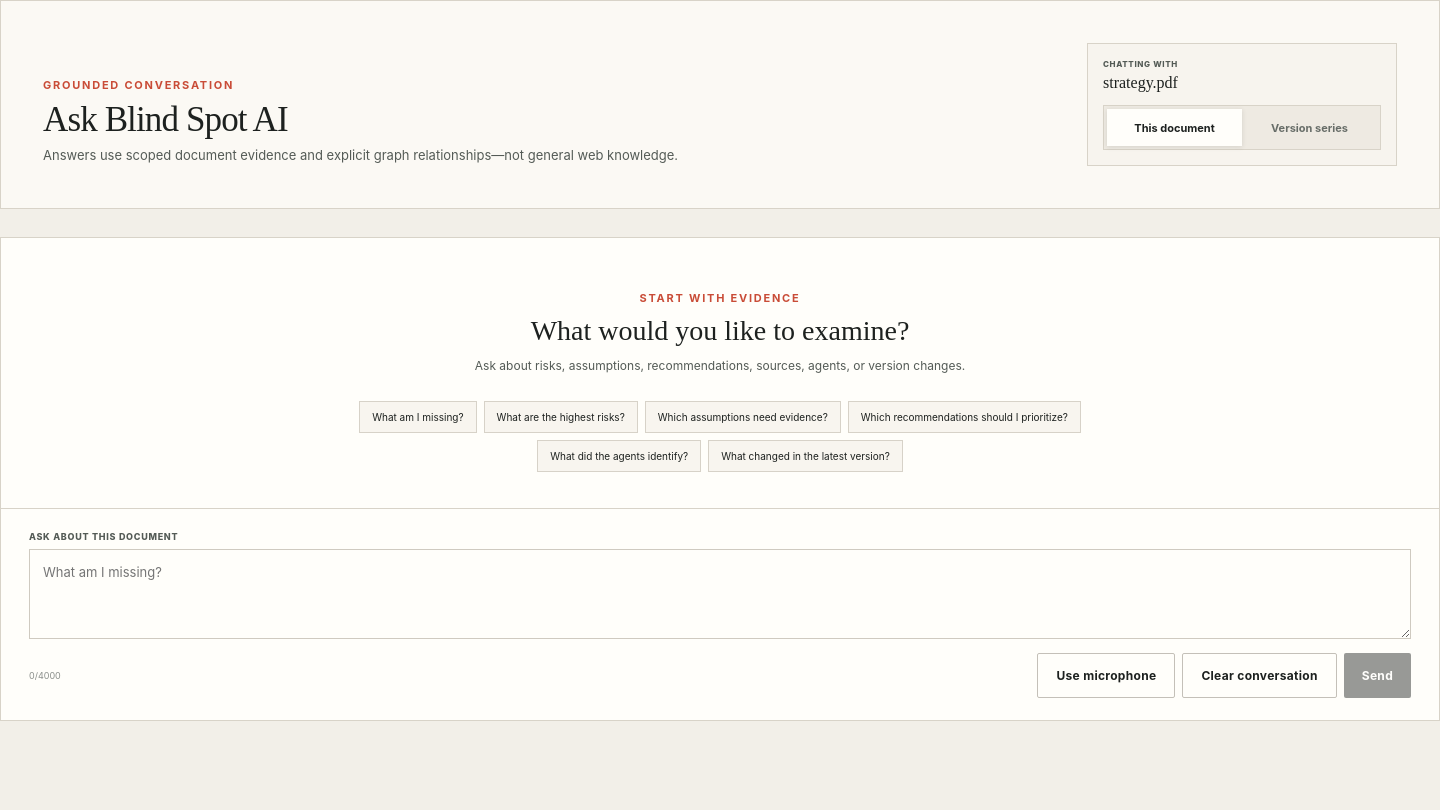
Test: grounded chat › keeps text available when voice is unsupported or permission is denied
Click the button "Use microphone": click(1106, 676) x1=1038 y1=653 x2=1175 y2=698
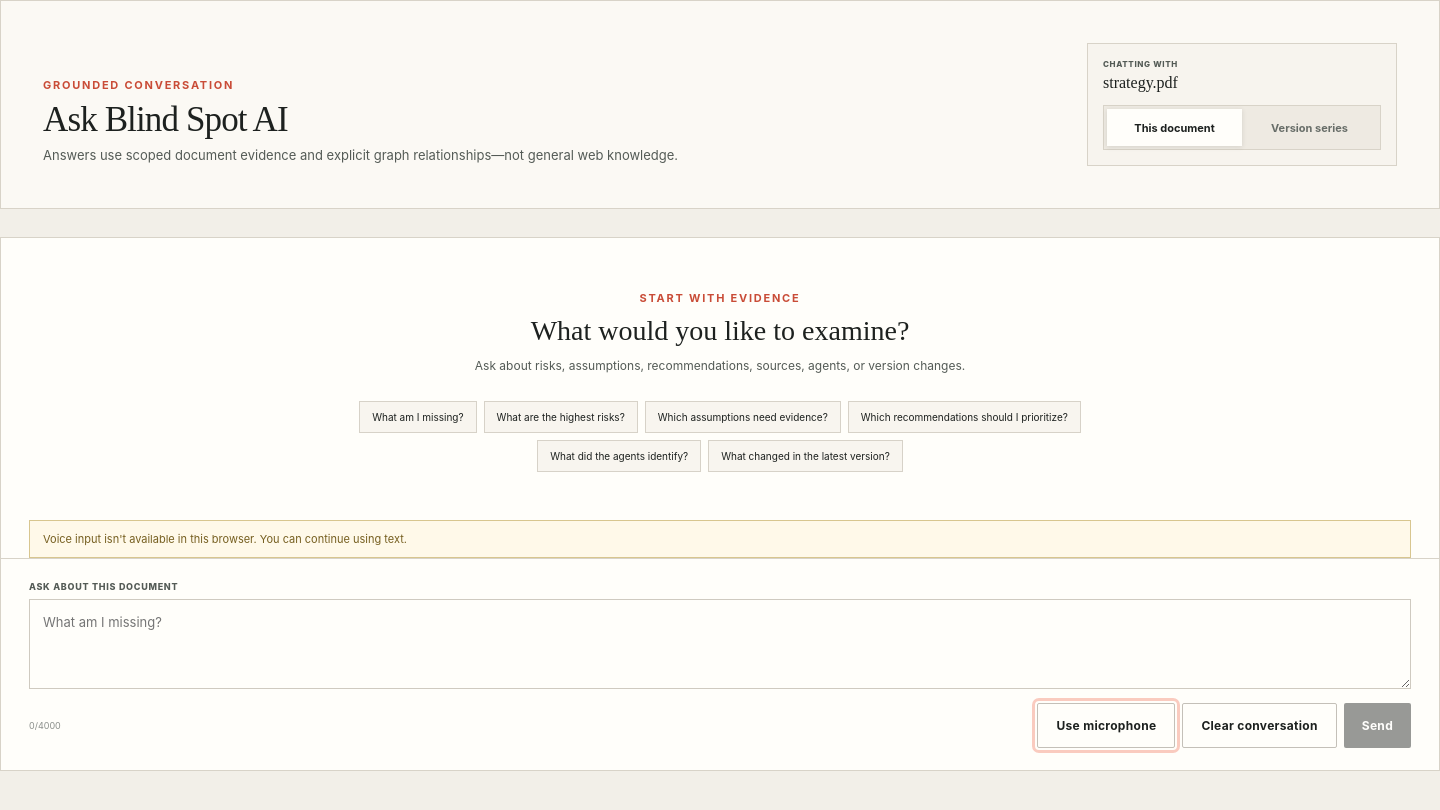
expect the text box labelled "Ask about this document" is enabled: met, box x1=29 y1=599 x2=1411 y2=689
expect the message shows "isn't available in this browser": met, box x1=43 y1=532 x2=407 y2=546
Click the button "Use microphone": click(1106, 726) x1=1038 y1=703 x2=1175 y2=748
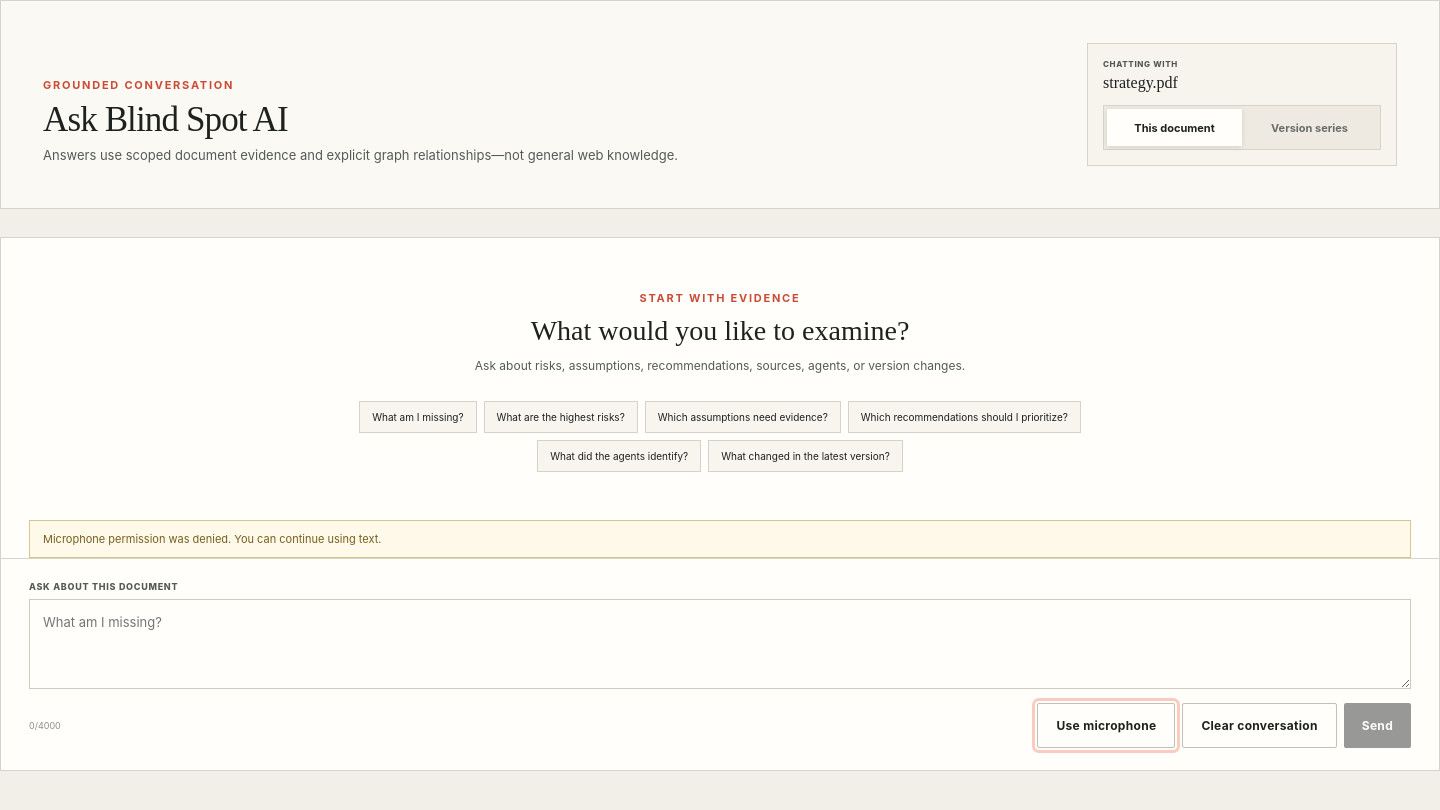
expect the message shows "permission was denied": met, box x1=43 y1=532 x2=381 y2=546
